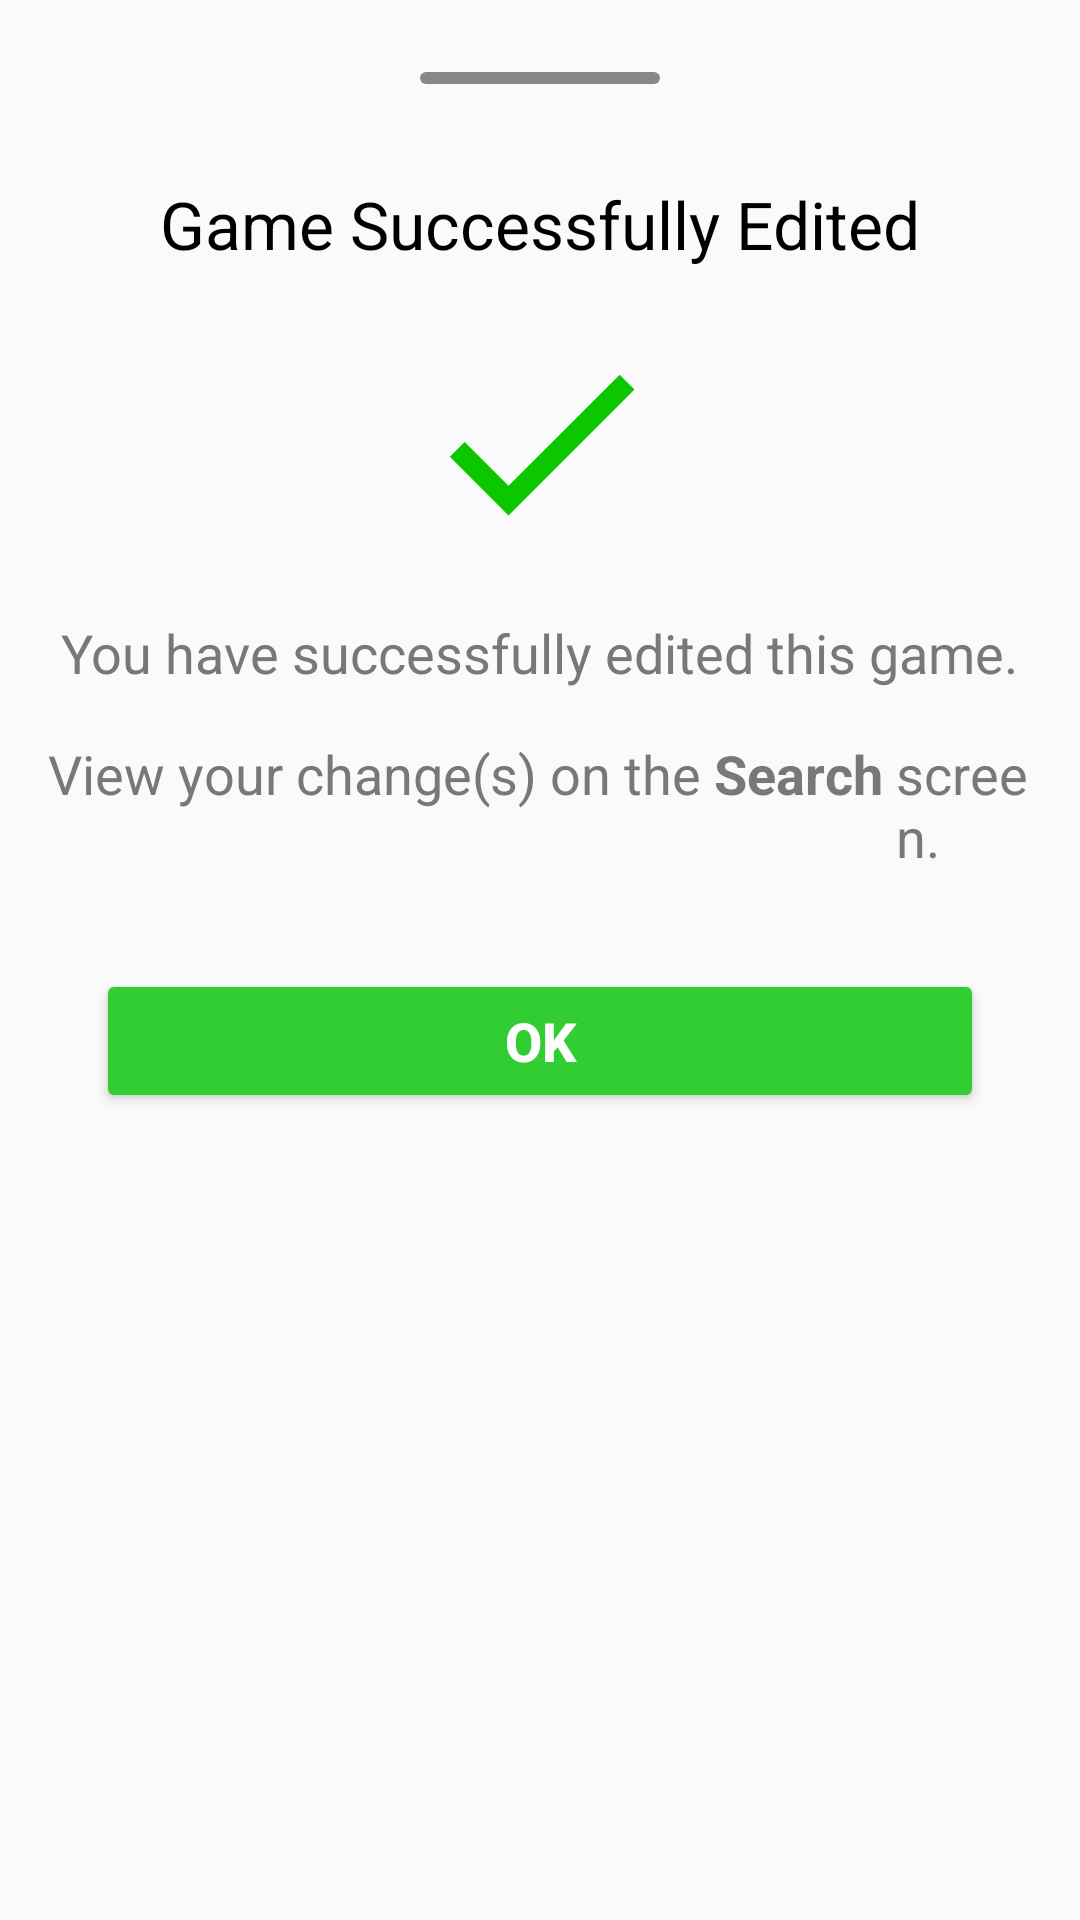

Icon bounding boxes for this 1080*1920 phone screenshot, format {"left": x1, "top": y1, "right": x2, "bottom": y2}:
check: {"left": 450, "top": 375, "right": 635, "bottom": 516}
